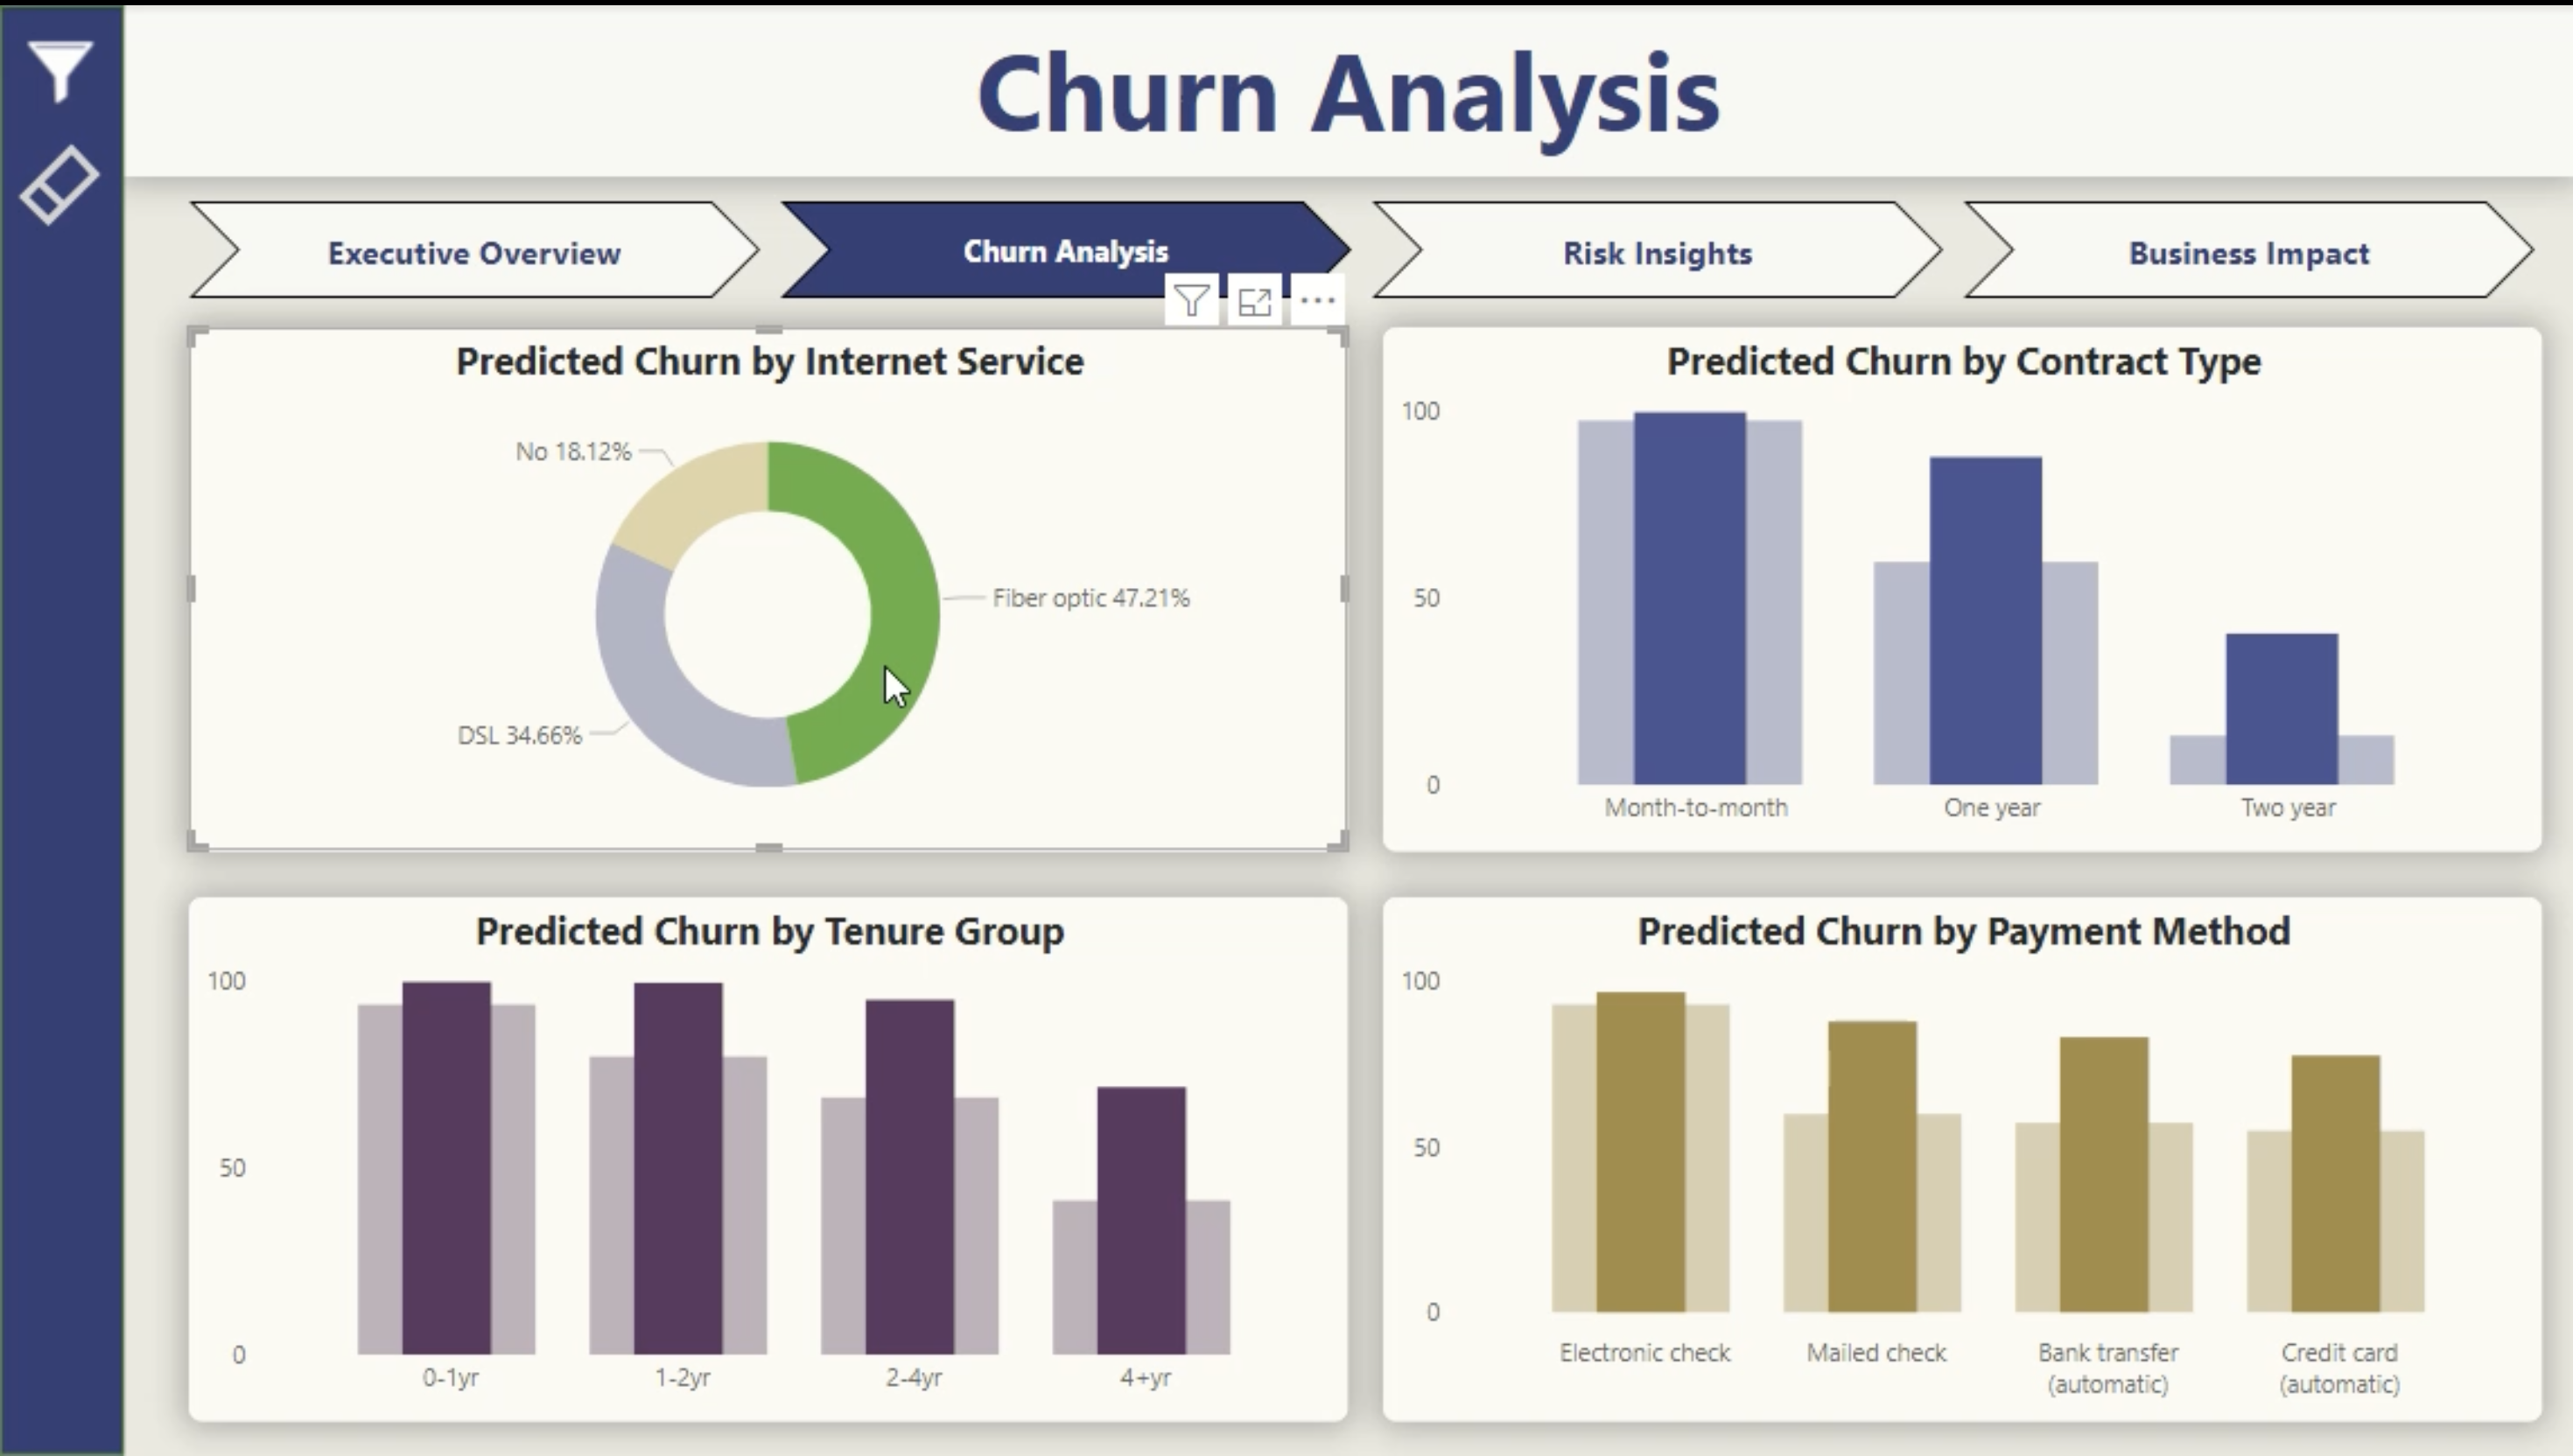

What the dashboard file says about the page in this screenshot:
{"tool":"powerbi","page":{"name":"Churn Analysis","canvas":[1280,720],"ordinal":1},"visuals":[{"type":"donutChart","title":"Predicted Churn by Internet Service","fields":{"Category":["customer_churn_predictions.InternetService"],"Y":["Measure_Table.Predicted Churn Rate %"]},"box":[94.1,159.7,575.6,260],"z":0},{"type":"clusteredColumnChart","title":"Predicted Churn by Payment Method","fields":{"Y":["Measure_Table.Predicted Churn Rate %"],"Category":["customer_churn_predictions.PaymentMethod"]},"box":[687,443.2,575.6,260],"z":1000},{"type":"columnChart","title":"Predicted Churn by Contract Type","fields":{"Category":["customer_churn_predictions.Contract"],"Y":["Measure_Table.Predicted Churn Rate %"]},"box":[687,159.7,575.6,260],"z":2000},{"type":"textbox","box":[60.4,0,1219.6,85.2],"z":3000},{"type":"clusteredColumnChart","title":"Predicted Churn by Tenure Group","fields":{"Category":["customer_churn_predictions.tenure_group"],"Y":["Measure_Table.Predicted Churn Rate %"]},"box":[94.1,443.2,575.6,260],"z":6000},{"type":"pageNavigator","box":[94.1,97.8,1168.6,48.3],"z":7000},{"type":"shape","box":[0,0,61.8,719.7],"z":8000},{"type":"actionButton","title":"Clear Filters","box":[0,64.5,60.4,49.4],"z":9500},{"type":"actionButton","box":[0,0,60.4,64.5],"z":11001}]}

Visuals, with their boxes on the page's 1280x720 design canvas (x1, y1, x2, y2). These are canvas units, not pixel positions in the 2573x1456 screenshot, which may show the page scaled, cropped or inside an application window:
"Predicted Churn by Internet Service" donutChart: region(94, 160, 670, 420)
"Predicted Churn by Payment Method" clusteredColumnChart: region(687, 443, 1263, 703)
"Predicted Churn by Contract Type" columnChart: region(687, 160, 1263, 420)
textbox: region(60, 0, 1280, 85)
"Predicted Churn by Tenure Group" clusteredColumnChart: region(94, 443, 670, 703)
pageNavigator: region(94, 98, 1263, 146)
shape: region(0, 0, 62, 720)
"Clear Filters" actionButton: region(0, 64, 60, 114)
actionButton: region(0, 0, 60, 64)
